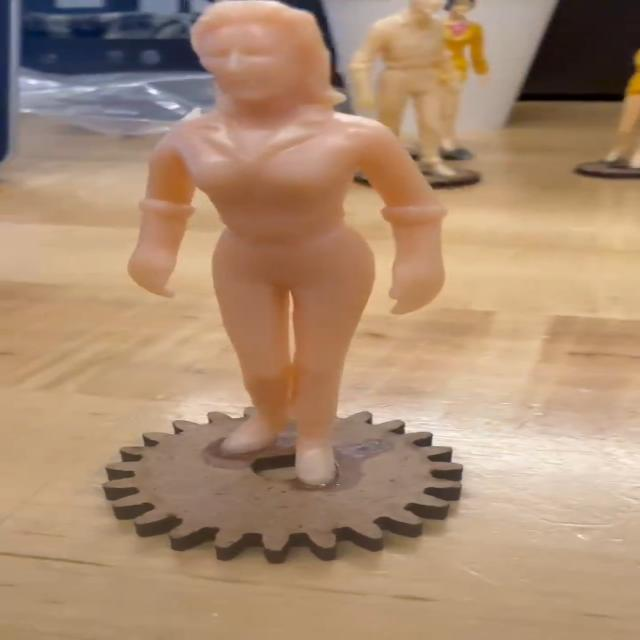Unauthorized: (128, 0, 448, 494)
